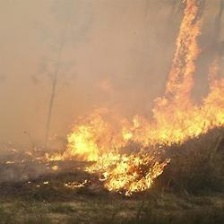fire: (70, 3, 224, 195)
